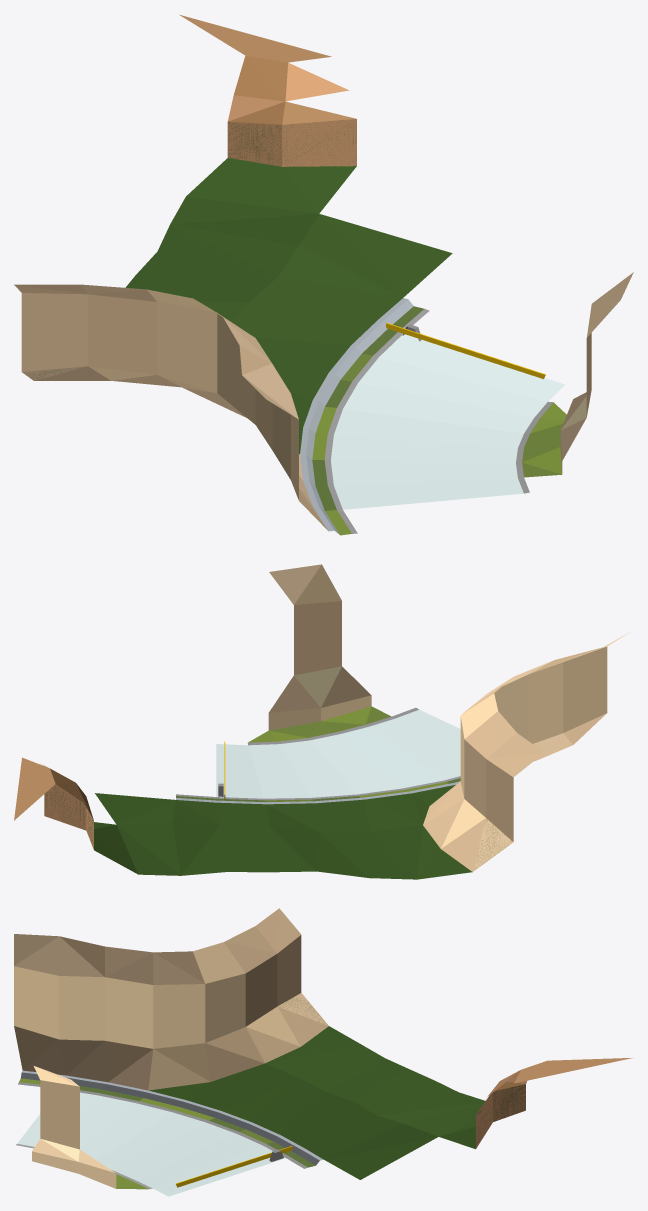
3 renders of one model, top to bottom at view 1: azimuth 30°, elevation 25°; view 2: azimuth 150°, elevation 25°; view 3: azimuth 270°, elevation 25°, orthographic. The views are drawn at different scales.
Visible parts, largest first — view 1: O1ED5D; view 2: O1ED5D; view 3: O1ED5D.
Boxes of the visible parts, bbox=[...] form: O1ED5D: bbox=[14, 14, 633, 535]; O1ED5D: bbox=[14, 564, 629, 879]; O1ED5D: bbox=[14, 908, 633, 1196].
Size of the model in its own units: 92.45 by 29.4 by 137.
